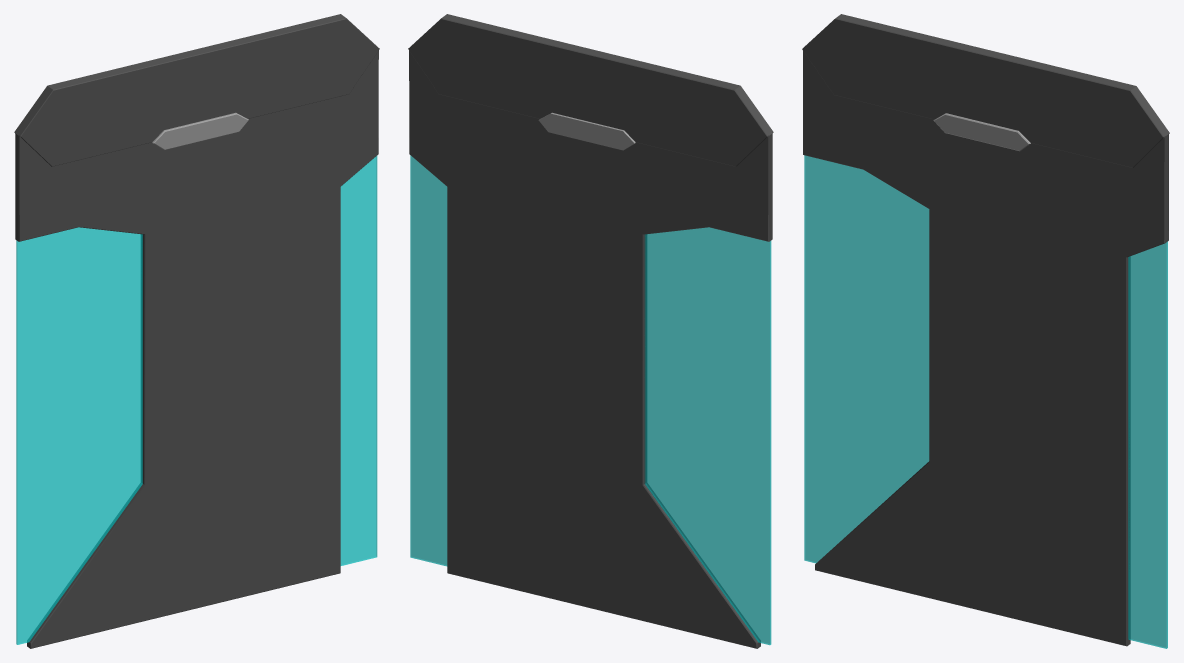
Rendered from Envelope.fbx.
The picture shows the model from 3 angles, left to right: view 1: azimuth 30°, elevation 25°; view 2: azimuth 150°, elevation 25°; view 3: azimuth 330°, elevation 25°; orthographic projection.
Parts seen in each view (by area): view 1: polySurface3; view 2: polySurface3; view 3: polySurface3.
Part boxes in pixels (x1,y1,x2,y2): polySurface3: [14, 14, 379, 648]; polySurface3: [408, 14, 773, 648]; polySurface3: [802, 14, 1169, 648].
Size of the model in its own units: 0.2069 by 0.3048 by 0.00893.
